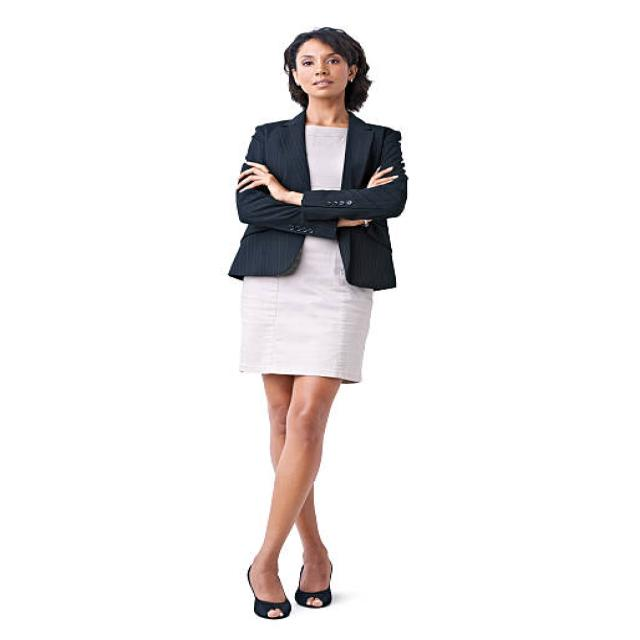Edited images: (203, 14, 407, 630)
